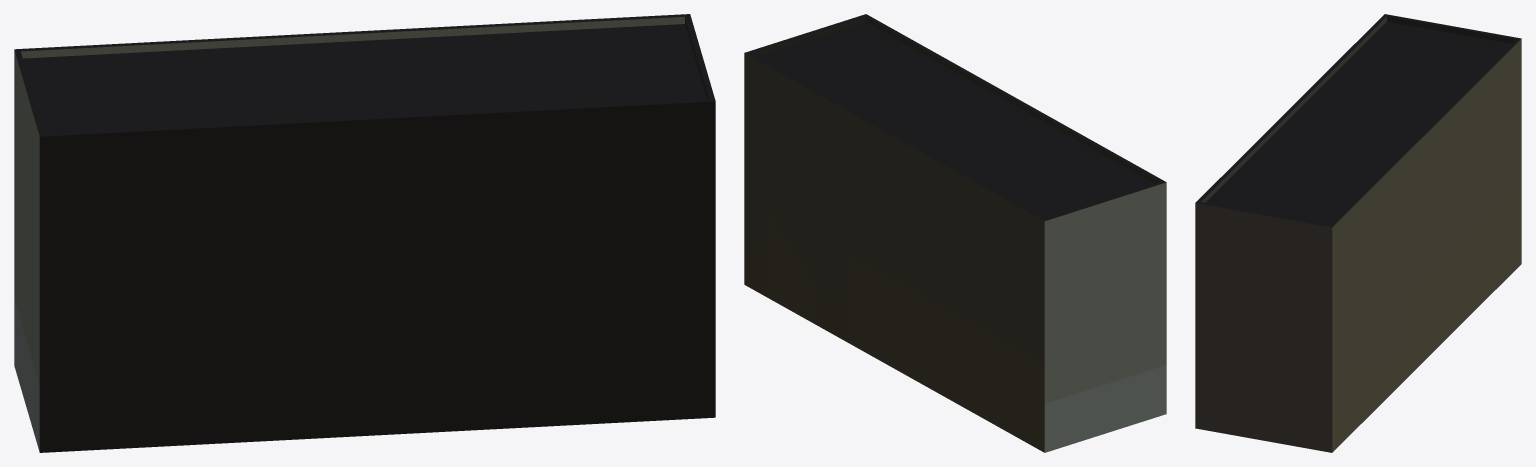
File: lupton-building.glb
The picture shows the model from 3 angles, left to right: view 1: azimuth 30°, elevation 25°; view 2: azimuth 150°, elevation 25°; view 3: azimuth 270°, elevation 25°; orthographic projection. The views are drawn at different scales.
Visible parts, largest first — view 1: LOD0; view 2: LOD0; view 3: LOD0.
Part boxes in pixels (x1,y1,x2,y2): LOD0: (14,14,715,452); LOD0: (744,14,1166,452); LOD0: (1195,14,1521,452).
Size of what is drawn, in the model's own units: 54.43 by 26.8 by 35.17.
1 material, 1 textured.
